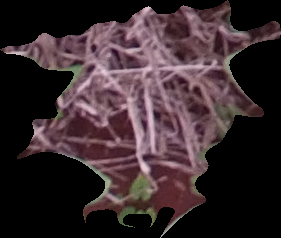soil: (1, 1, 281, 236)
